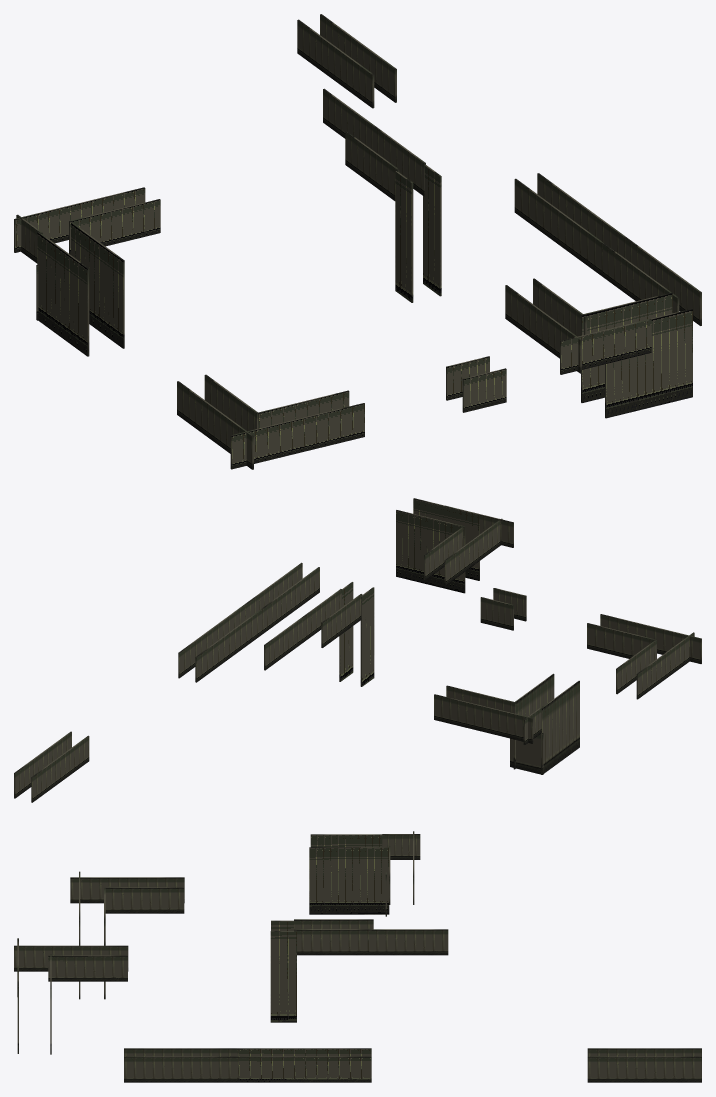
The model's file is enviornmentFinalWalls2.obj.
3 renders of one model, top to bottom at view 1: azimuth 30°, elevation 25°; view 2: azimuth 150°, elevation 25°; view 3: azimuth 270°, elevation 25°, orthographic. The views are drawn at different scales.
Parts seen in each view (by area): view 1: Cube.084, Cube.037, Cube.019, Cube.036, Cube.096, Cube.086, Cube.117, Cube.085, Cube.034, Cube.035, Cube.021, Cube.062 (+14 smaller); view 2: Cube.085, Cube.037, Cube.035, Cube.096, Cube.117, Cube.019, Cube.080, Cube.095, Cube.020, Cube.021, Cube.084, Cube.097 (+15 smaller); view 3: Cube.036, Cube.097, Cube.118, Cube.094, Cube.063, Cube.064, Cube.022, Cube.081, Cube.061, Cube.080, Cube.021, Cube.096 (+5 smaller).
Boxes of the visible parts, x1,y1,x2,y2 form: Cube.084: (605, 308, 692, 418); Cube.037: (37, 232, 89, 356); Cube.019: (230, 403, 364, 469); Cube.036: (71, 222, 124, 348); Cube.096: (514, 178, 603, 276); Cube.086: (560, 319, 651, 374); Cube.117: (297, 19, 374, 108); Cube.085: (581, 292, 672, 402); Cube.034: (69, 199, 160, 254); Cube.035: (14, 187, 145, 252); Cube.021: (177, 381, 253, 469); Cube.062: (395, 171, 413, 302); Cube.085: (396, 510, 465, 593); Cube.037: (541, 680, 579, 774); Cube.035: (434, 694, 533, 743); Cube.096: (195, 608, 262, 682); Cube.117: (31, 735, 89, 802); Cube.019: (600, 614, 701, 663); Cube.080: (444, 518, 502, 585); Cube.095: (262, 567, 319, 633); Cube.020: (587, 623, 655, 658); Cube.021: (636, 632, 694, 699); Cube.084: (413, 498, 479, 580); Cube.097: (178, 604, 246, 678); Cube.036: (309, 847, 389, 914); Cube.097: (237, 1056, 371, 1082); Cube.118: (587, 1056, 701, 1082); Cube.094: (124, 1056, 238, 1082); Cube.063: (270, 931, 296, 1022); Cube.064: (368, 929, 448, 955); Cube.022: (105, 887, 184, 913); Cube.081: (48, 955, 127, 981); Cube.061: (294, 929, 368, 955); Cube.080: (14, 945, 128, 971); Cube.021: (70, 877, 184, 903); Cube.096: (237, 1048, 371, 1056).
Bounding box in the file's own units: 124 × 28.89 × 195.
